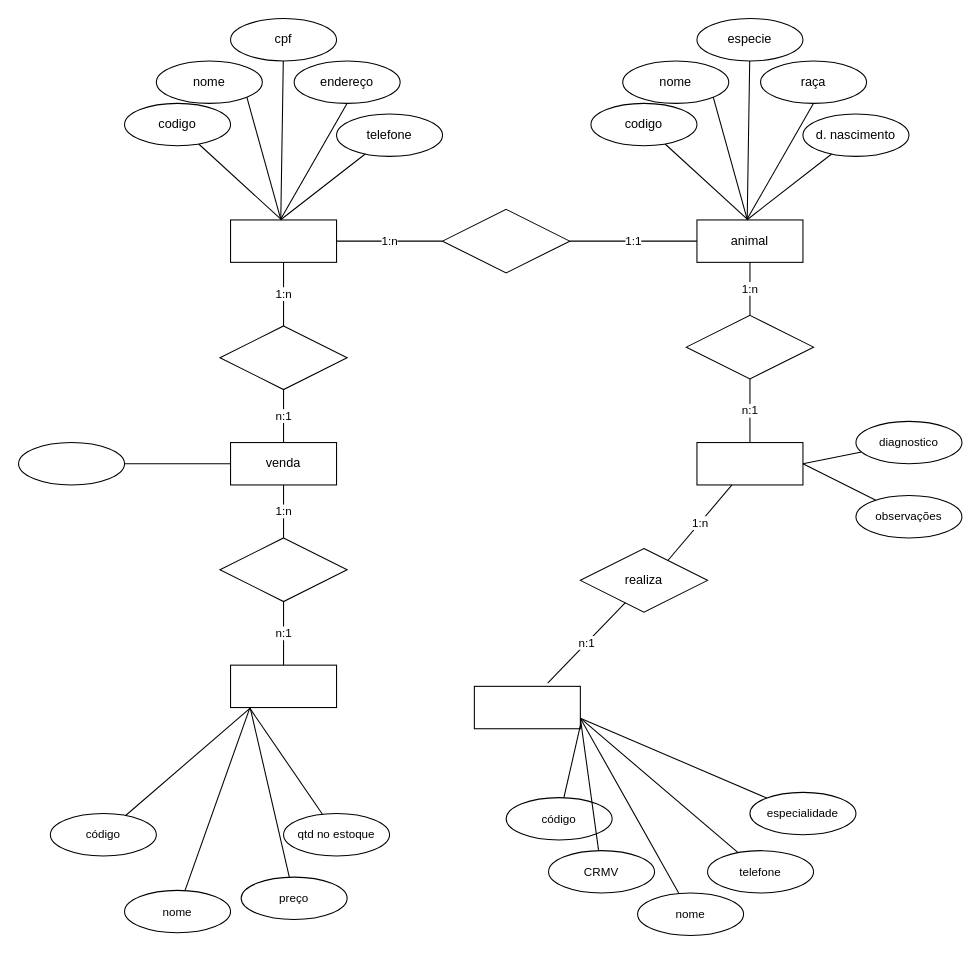
Image size: 980x954. Some labels were removed from this diagram. Here are the shapes that lost their labels. From the top down, the centre of each, then its label:
At pixel 283 240: "cliente".
At pixel 505 240: "possui".
At pixel 283 357: "compra".
At pixel 749 346: "destinado".
At pixel 71 463: "qtd vendida".
At pixel 749 463: "atendimento".
At pixel 283 569: "contém".
At pixel 283 686: "produto".
At pixel 526 707: "veterinário".
